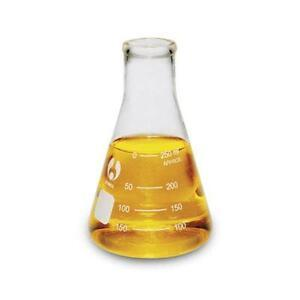Titrarion: (84, 34, 217, 255)
